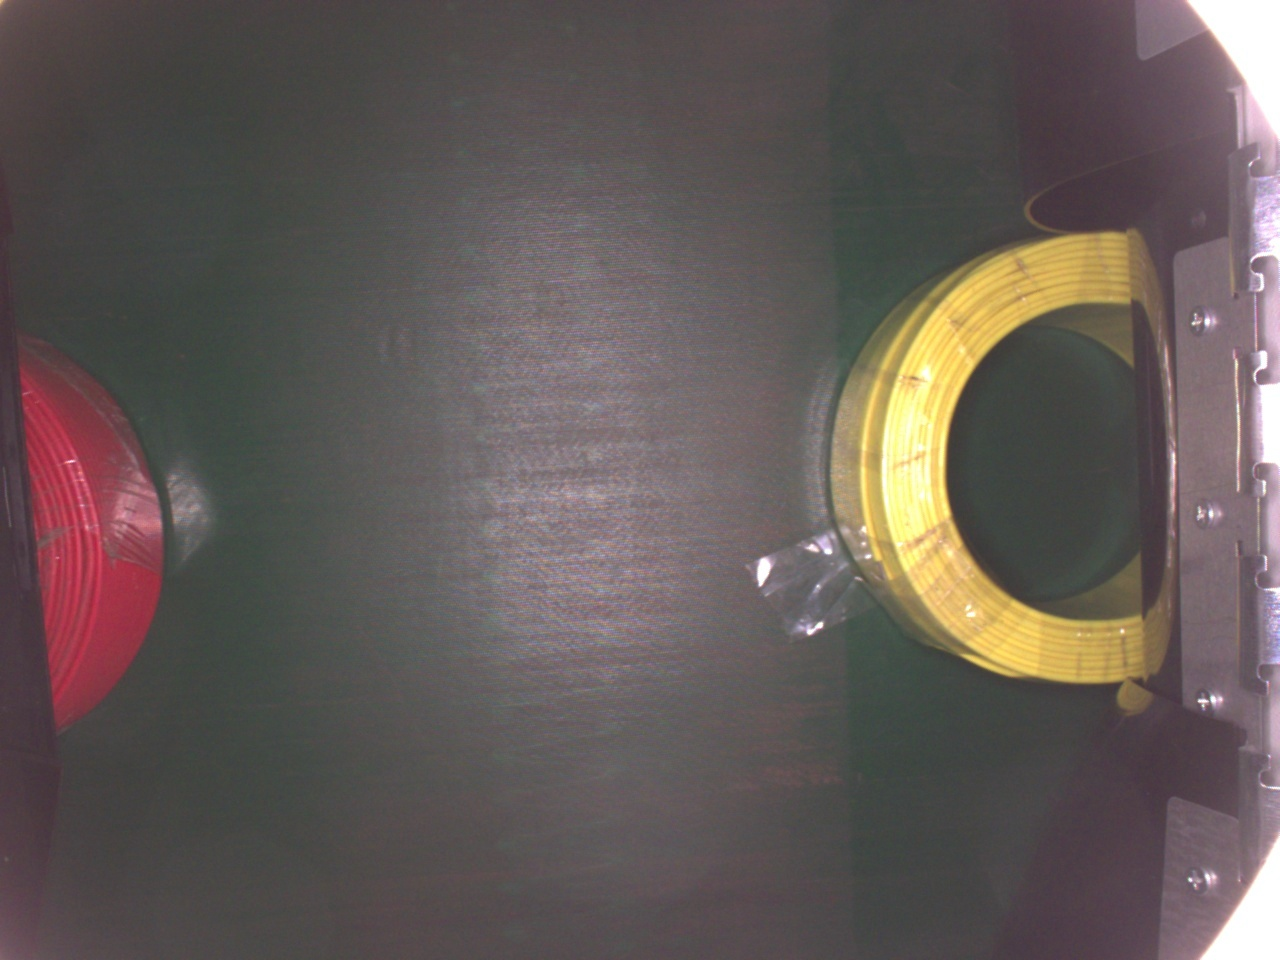red: (12, 329, 167, 730)
yellow: (827, 226, 1167, 685)
